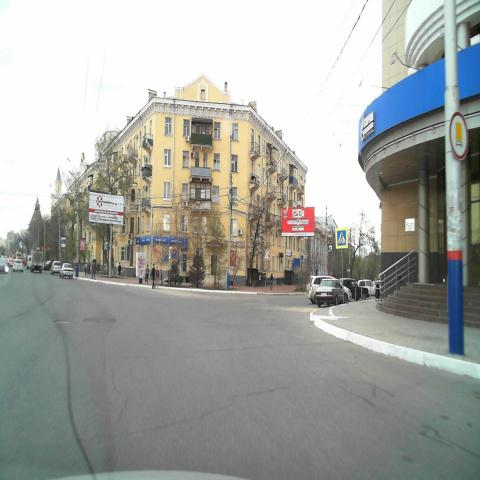3_32: (450, 111, 470, 162)
